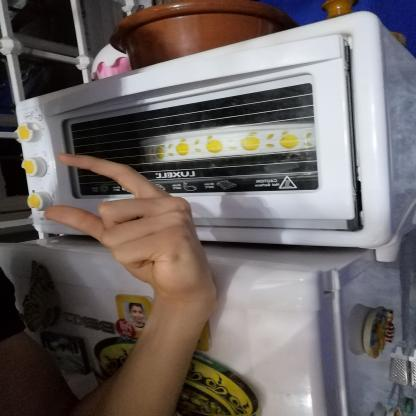DELL: (29, 144, 220, 300)
